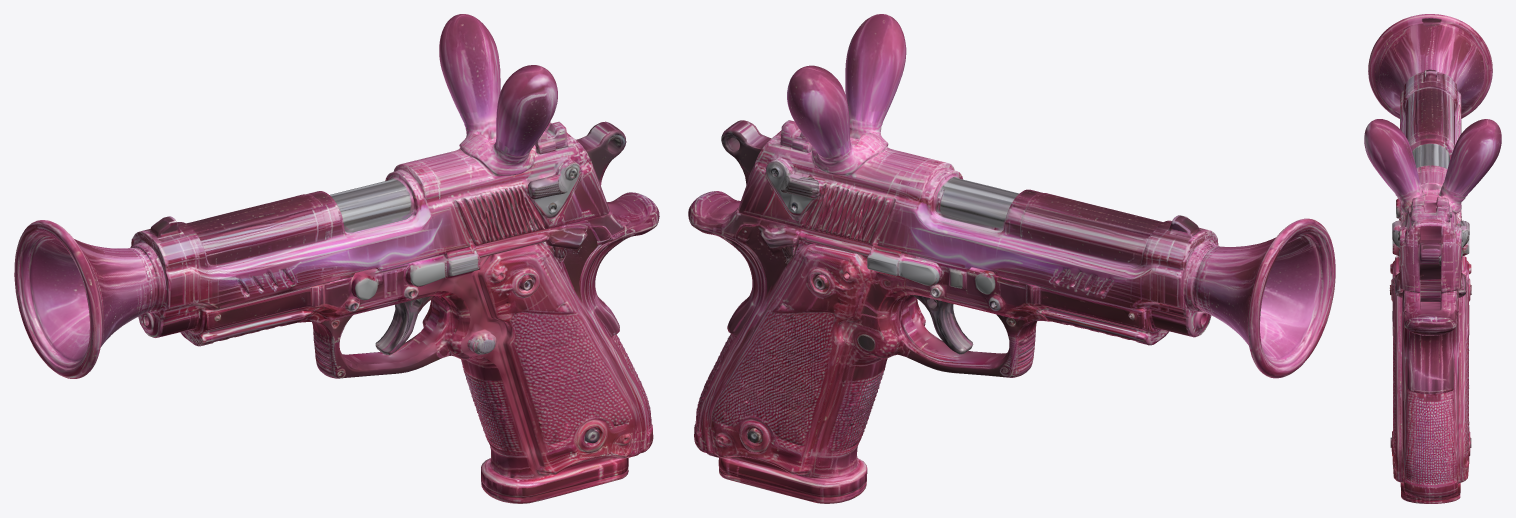
The model's file is rabbitXcompressed.glb.
3 views of the same model, side by side, from view 1: azimuth 30°, elevation 25°; view 2: azimuth 150°, elevation 25°; view 3: azimuth 270°, elevation 25° (orthographic). The views are drawn at different scales.
Visible parts, largest first — view 1: node_0; view 2: node_0; view 3: node_0.
Boxes of the visible parts, left/top/right/bottom form: node_0: left=14, top=14, right=659, bottom=503; node_0: left=688, top=14, right=1335, bottom=503; node_0: left=1364, top=14, right=1501, bottom=503.
Bounding box in the file's own units: 1.03 × 0.737 × 0.2692.
1 material, 1 textured.
